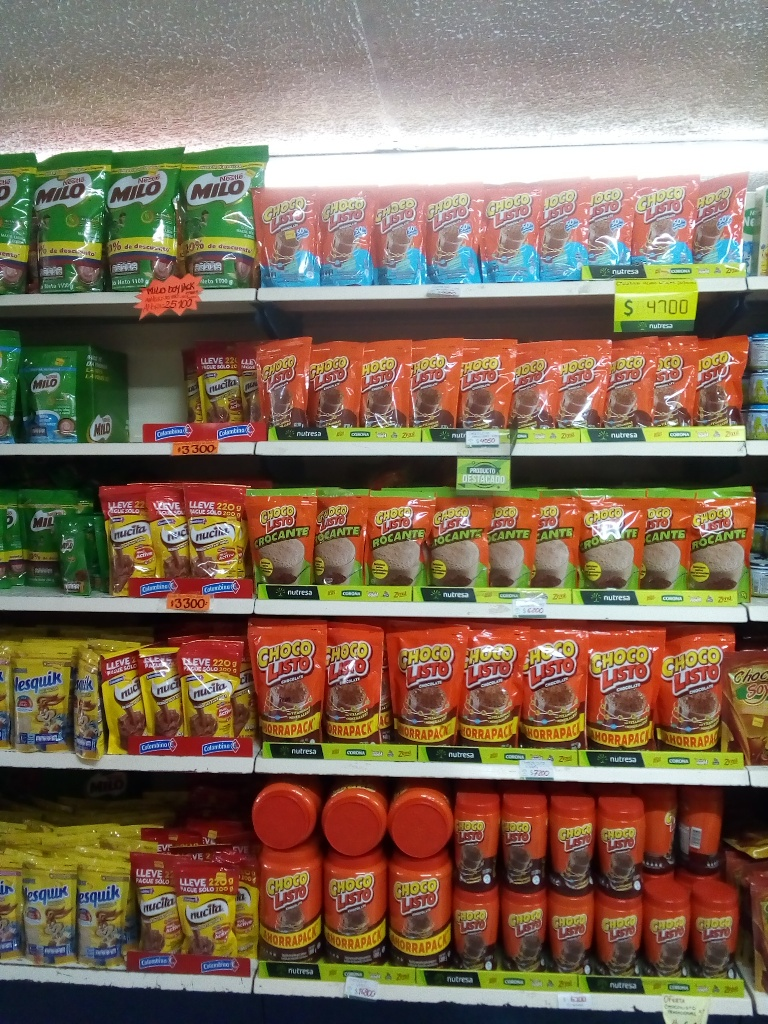COL0170102DYP25000: (240, 486, 319, 598)
COL0170103DYP20000: (252, 338, 314, 435)
COL0170103DYP44000: (656, 627, 743, 766)
COL0170103TRR00100: (255, 839, 323, 980)
COL0170103TRR30000: (455, 783, 501, 889)
COL0170104DYP20000: (249, 180, 323, 285)
COL0170203DYP10000: (59, 517, 105, 604)
COL0170203DYP25000: (15, 487, 75, 589)
COL0170205DYP20000: (17, 347, 86, 443)
COL0170306DYP20000: (72, 852, 131, 968)
